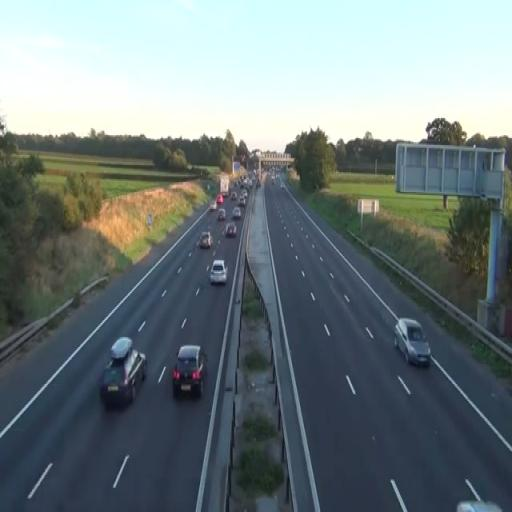Car: (99, 336, 147, 409), (394, 318, 431, 368), (172, 345, 206, 399), (210, 260, 228, 285), (198, 230, 212, 250), (226, 223, 236, 238), (217, 208, 226, 222), (232, 207, 241, 220)
